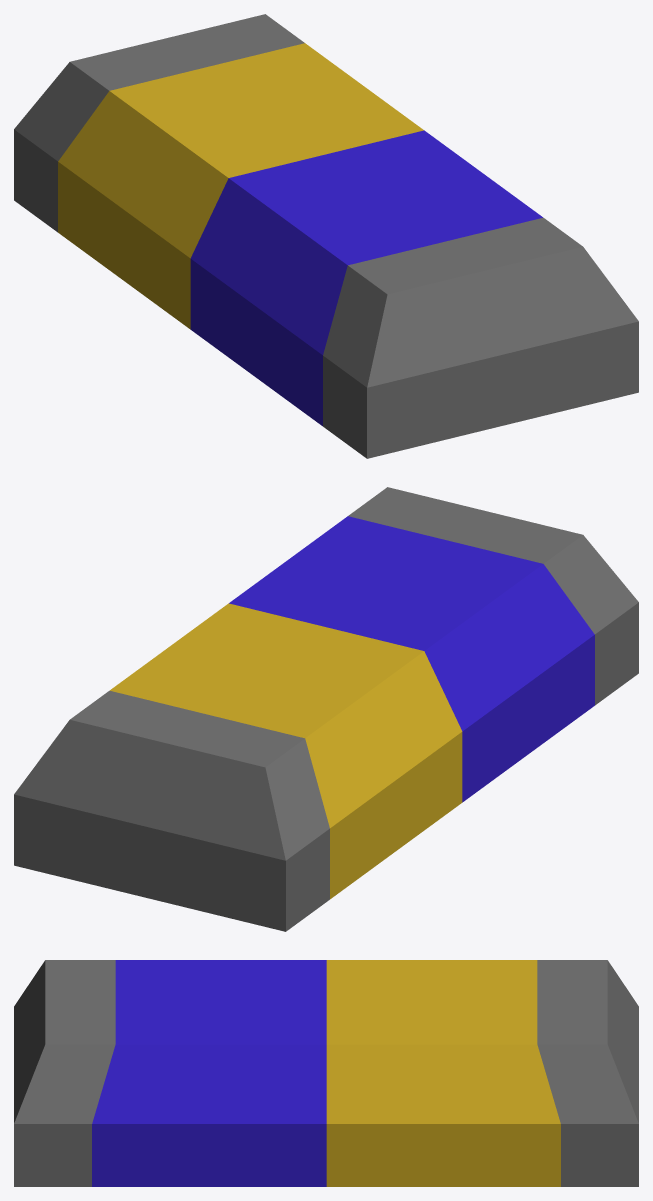
The model's file is Chocolate Bar.fbx.
The picture shows the model from 3 angles, top to bottom: view 1: azimuth 30°, elevation 25°; view 2: azimuth 150°, elevation 25°; view 3: azimuth 270°, elevation 25°; orthographic projection. The views are drawn at different scales.
Visible parts, largest first — view 1: Chocolate Bar 5; view 2: Chocolate Bar 5; view 3: Chocolate Bar 5.
Boxes of the visible parts, x1=… form: Chocolate Bar 5: x1=14, y1=14, x2=638, y2=458; Chocolate Bar 5: x1=14, y1=487, x2=638, y2=931; Chocolate Bar 5: x1=14, y1=960, x2=638, y2=1186.
Size of the model in its own units: 20 by 10 by 45.
